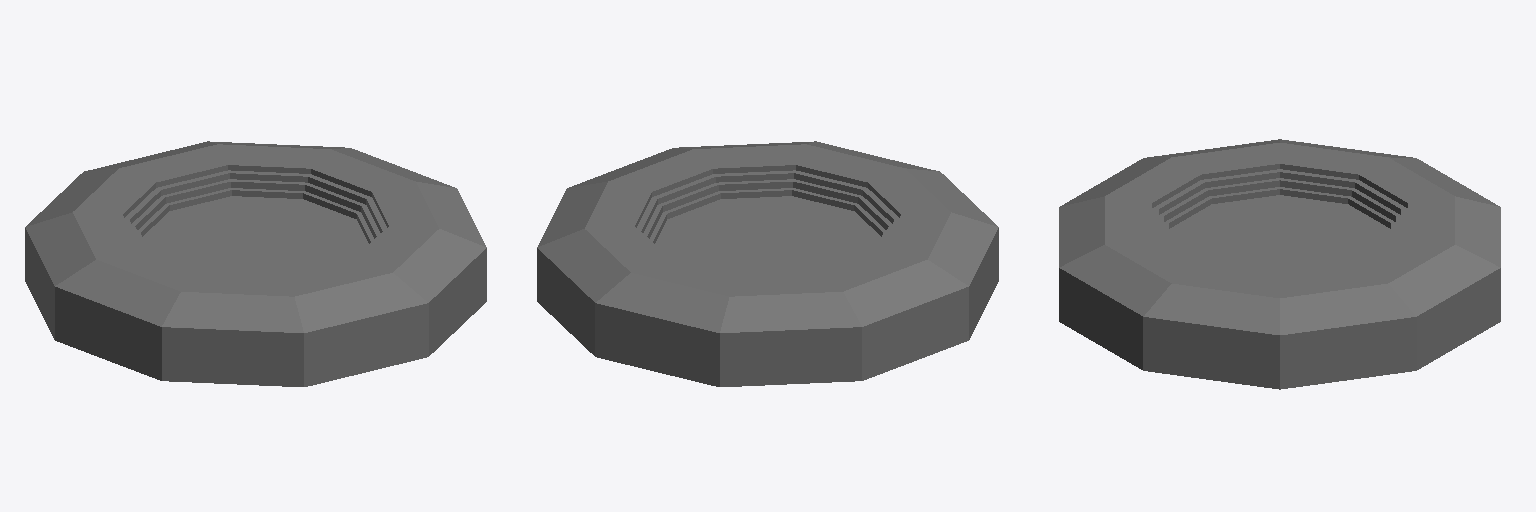
Rendered from conn0.obj.
3 views of the same model, side by side, from view 1: azimuth 30°, elevation 25°; view 2: azimuth 150°, elevation 25°; view 3: azimuth 270°, elevation 25° (orthographic).
Parts seen in each view (by area): view 1: conn8:pCylinder1; view 2: conn8:pCylinder1; view 3: conn8:pCylinder1.
Boxes of the visible parts, <box> form: conn8:pCylinder1: <box>25,141,486,386</box>; conn8:pCylinder1: <box>537,141,998,386</box>; conn8:pCylinder1: <box>1059,139,1500,389</box>.
Size of the model in its own units: 15.73 by 2.65 by 14.96.